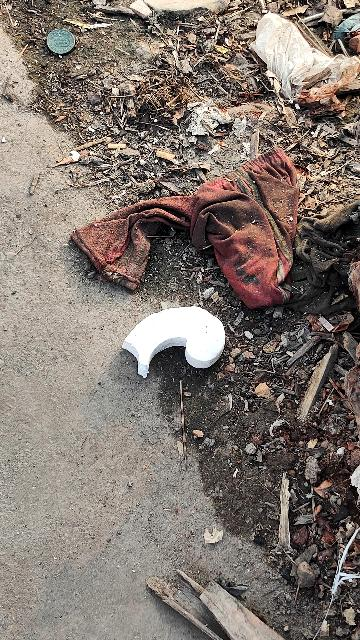cocksheet: (114, 309, 235, 379)
